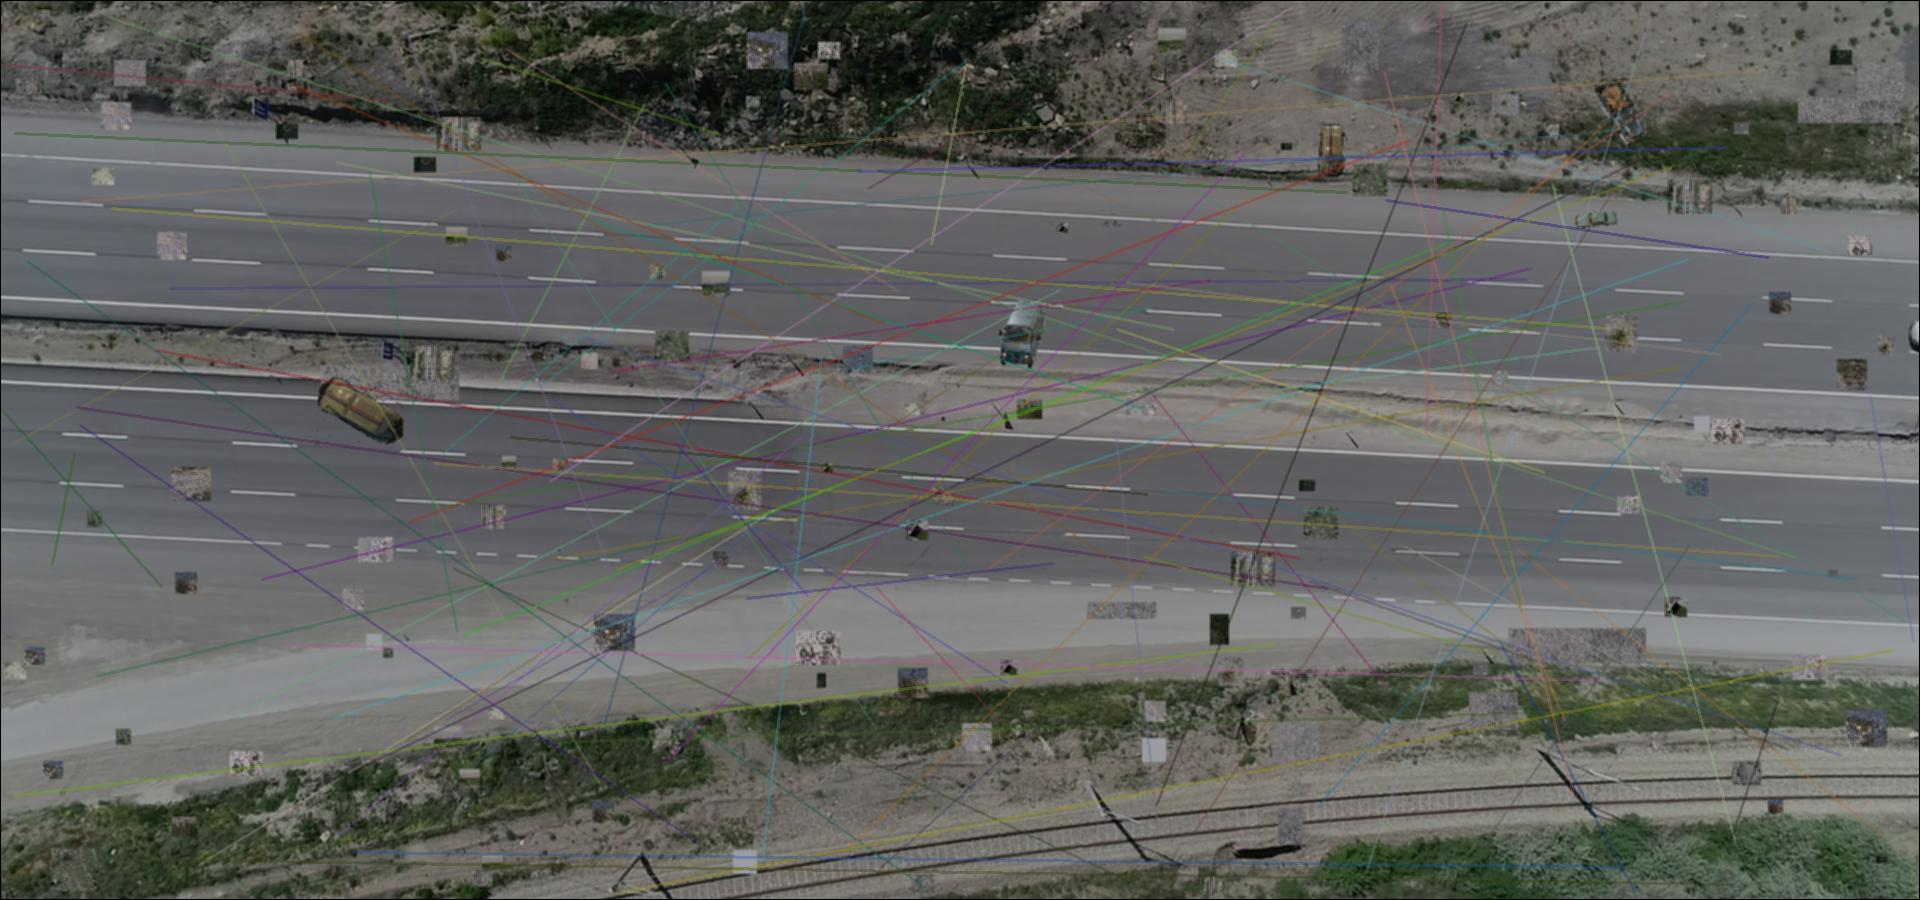arac: (316, 376, 403, 444), (1593, 76, 1647, 144), (997, 300, 1044, 369), (1318, 124, 1347, 178), (1573, 211, 1618, 229)
